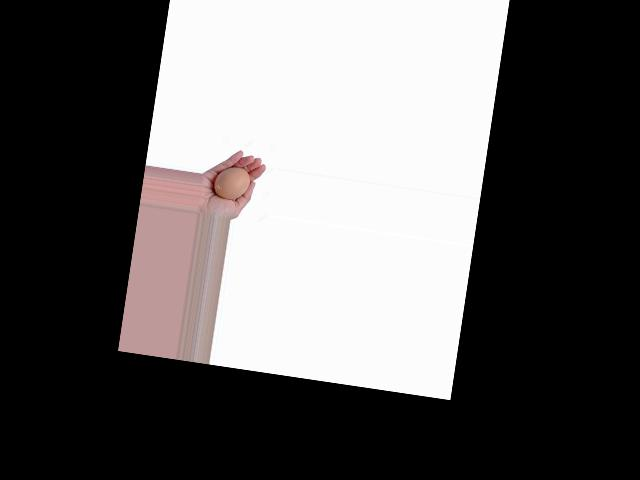egg: (212, 164, 251, 201)
